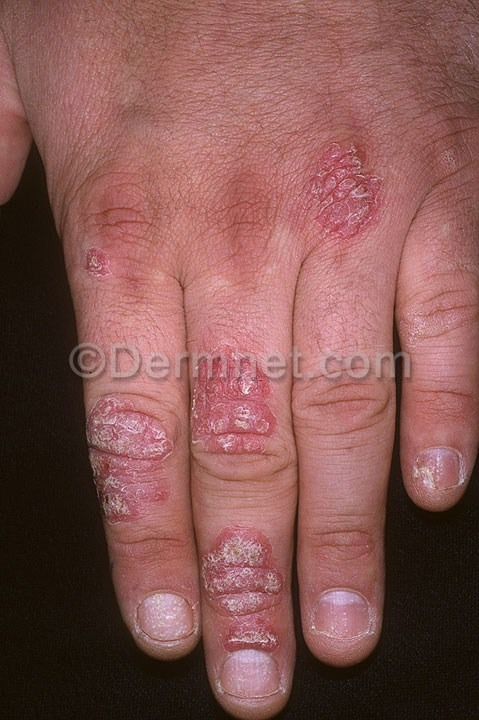Psoriasis: (74, 388, 187, 538), (193, 518, 295, 661), (184, 335, 286, 476), (290, 127, 389, 248), (124, 582, 200, 660), (390, 434, 471, 502), (67, 221, 136, 290)
